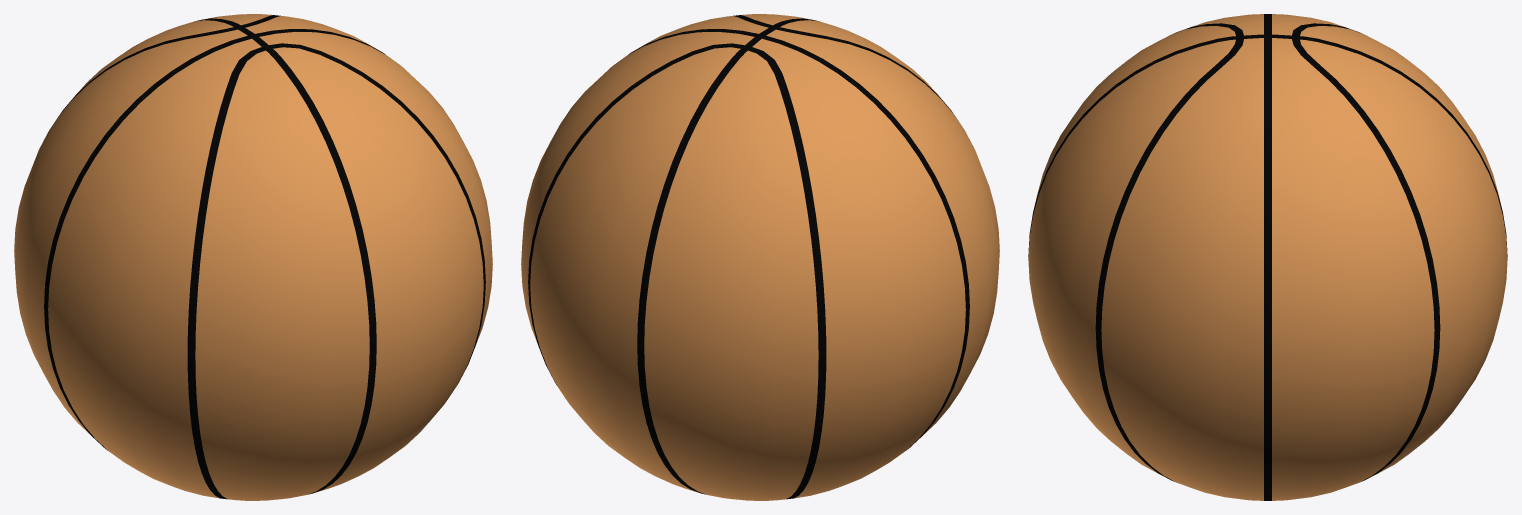
The model's file is Ball.fbx.
The picture shows the model from 3 angles, left to right: view 1: azimuth 30°, elevation 25°; view 2: azimuth 150°, elevation 25°; view 3: azimuth 270°, elevation 25°; orthographic projection.
Visible parts, largest first — view 1: pSphere2; view 2: pSphere2; view 3: pSphere2.
Part boxes in pixels (x1=…): pSphere2: x1=14, y1=14, x2=492, y2=500; pSphere2: x1=521, y1=14, x2=999, y2=500; pSphere2: x1=1028, y1=14, x2=1507, y2=500.
Bounding box in the file's own units: 0.2359 × 0.2388 × 0.2359.
